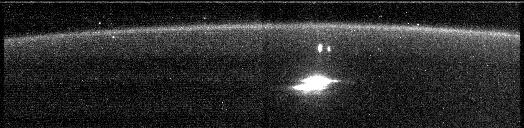positive: (314, 43, 334, 57)
